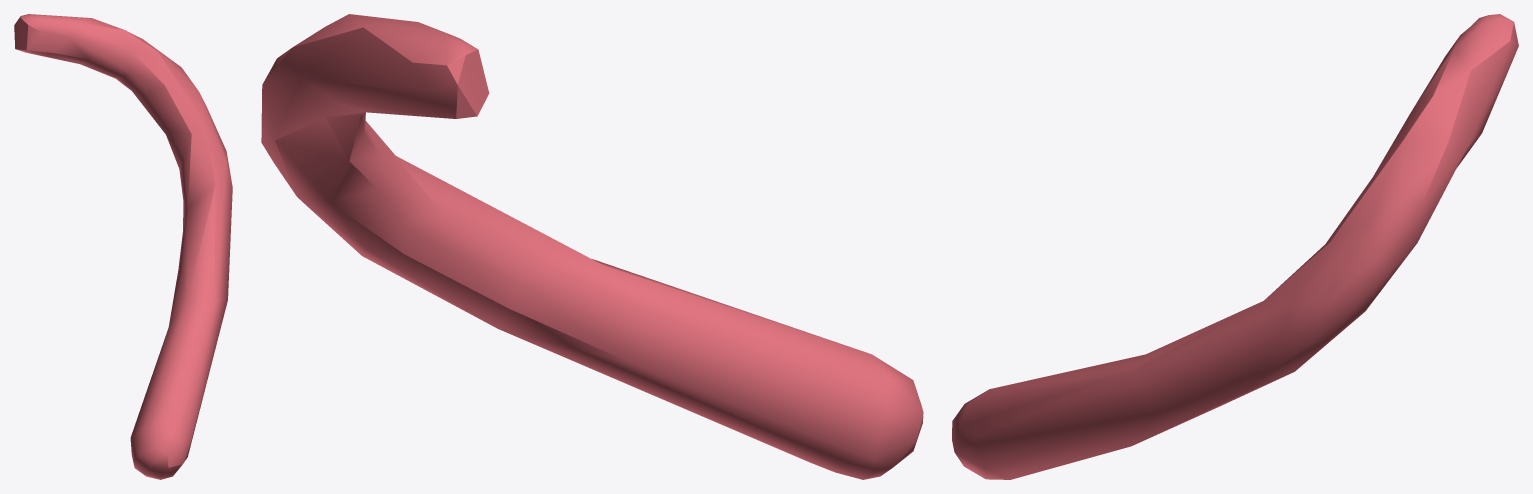
File: fma9422_fj3054.glb
3 views of the same model, side by side, from view 1: azimuth 30°, elevation 25°; view 2: azimuth 150°, elevation 25°; view 3: azimuth 270°, elevation 25° (orthographic). The views are drawn at different scales.
Parts seen in each view (by area): view 1: FMA9422_FJ3054; view 2: FMA9422_FJ3054; view 3: FMA9422_FJ3054.
Part boxes in pixels (x1=…): FMA9422_FJ3054: x1=14, y1=14, x2=232, y2=479; FMA9422_FJ3054: x1=261, y1=14, x2=923, y2=479; FMA9422_FJ3054: x1=952, y1=14, x2=1518, y2=479.
Bounding box in the file's own units: 0.00889 × 0.0137 × 0.0144.
